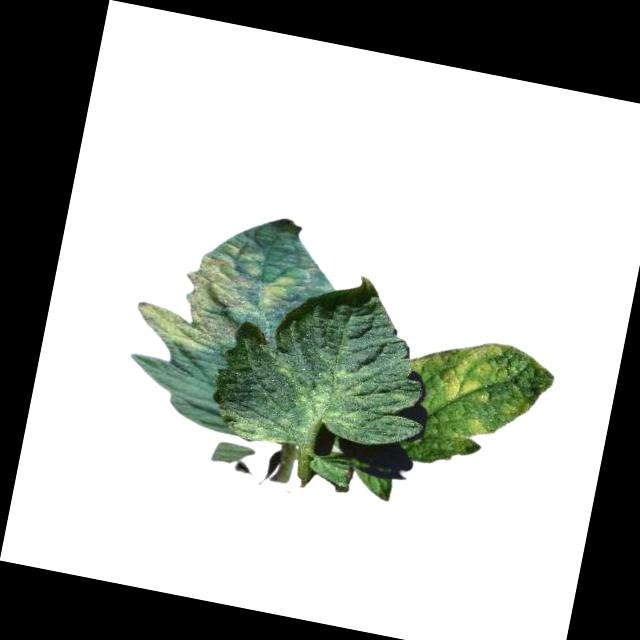Leaf_Mold: (131, 227, 303, 368), (405, 330, 542, 444)
